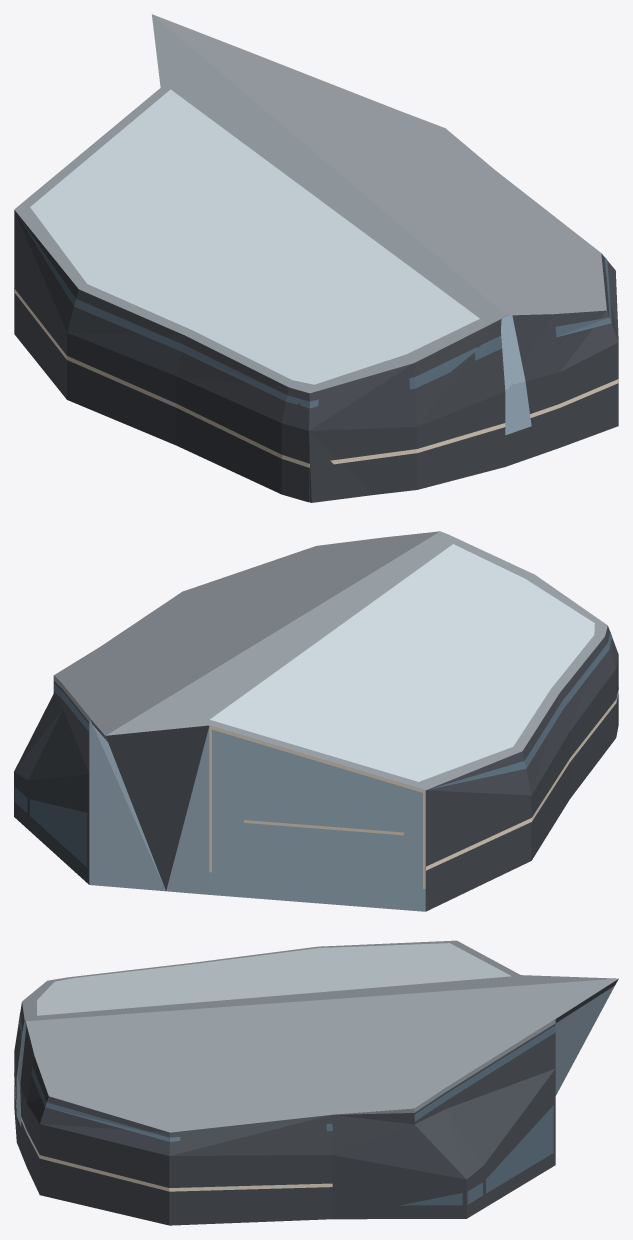
Rendered from msp-us-bank-stadium.glb.
3 renders of one model, top to bottom at view 1: azimuth 30°, elevation 25°; view 2: azimuth 150°, elevation 25°; view 3: azimuth 270°, elevation 25°, orthographic. The views are drawn at different scales.
Visible parts, largest first — view 1: U.S. Bank Stadium; view 2: U.S. Bank Stadium; view 3: U.S. Bank Stadium.
Boxes of the visible parts, x1,y1,x2,y2 form: U.S. Bank Stadium: [14, 14, 618, 502]; U.S. Bank Stadium: [14, 531, 618, 911]; U.S. Bank Stadium: [14, 940, 618, 1225].
Bounding box in the file's own units: 231 × 92.7 × 309.
